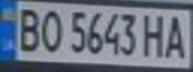3: (118, 10, 142, 57)
4: (103, 9, 124, 56)
5: (63, 7, 87, 54)
6: (84, 8, 106, 55)
A: (160, 11, 193, 60)
B: (12, 5, 45, 53)
H: (139, 11, 169, 58)
O: (36, 6, 66, 54)
